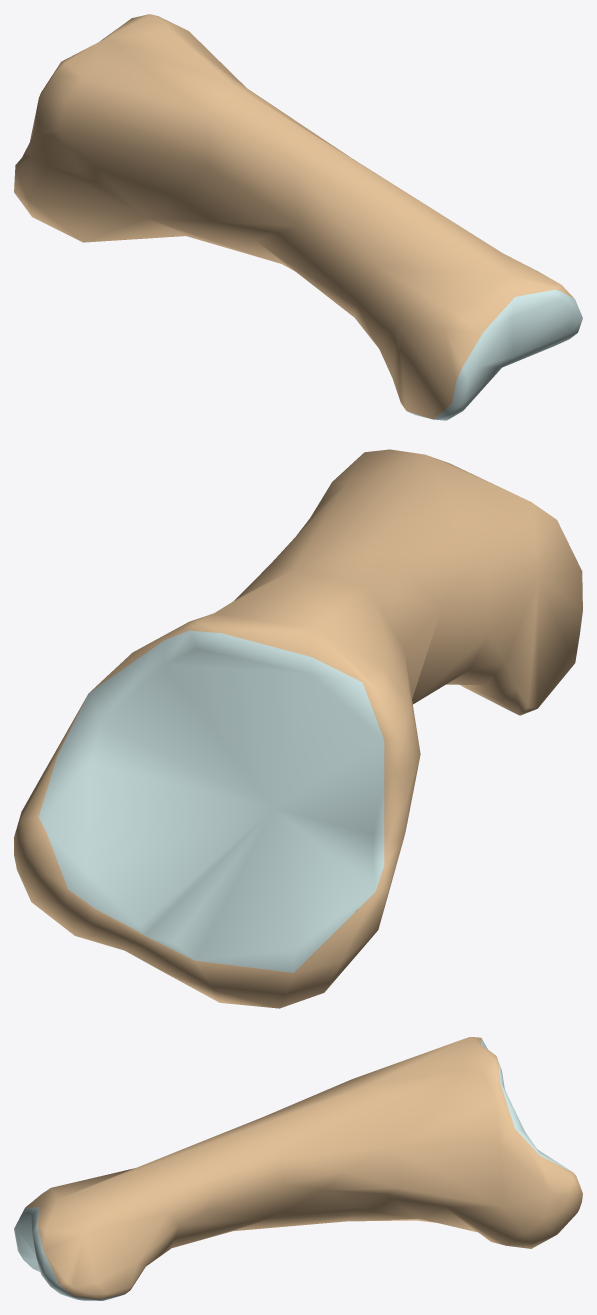
File: Phalanx_proximal_3rd_finger_foot_left.glb
3 views of the same model, one above another, from view 1: azimuth 30°, elevation 25°; view 2: azimuth 150°, elevation 25°; view 3: azimuth 270°, elevation 25° (orthographic). The views are drawn at different scales.
Visible parts, largest first — view 1: Proximal_phalanx_of_3rd_finger_of_foot.l_Generated_Mesh_From; view 2: Proximal_phalanx_of_3rd_finger_of_foot.l_Generated_Mesh_From; view 3: Proximal_phalanx_of_3rd_finger_of_foot.l_Generated_Mesh_From.
Part boxes in pixels (x1,y1,x2,y2): Proximal_phalanx_of_3rd_finger_of_foot.l_Generated_Mesh_From: (14,14,582,420); Proximal_phalanx_of_3rd_finger_of_foot.l_Generated_Mesh_From: (14,449,582,1008); Proximal_phalanx_of_3rd_finger_of_foot.l_Generated_Mesh_From: (14,1037,582,1300).
Bounding box in the file's own units: 0.0164 × 0.012 × 0.0302.
